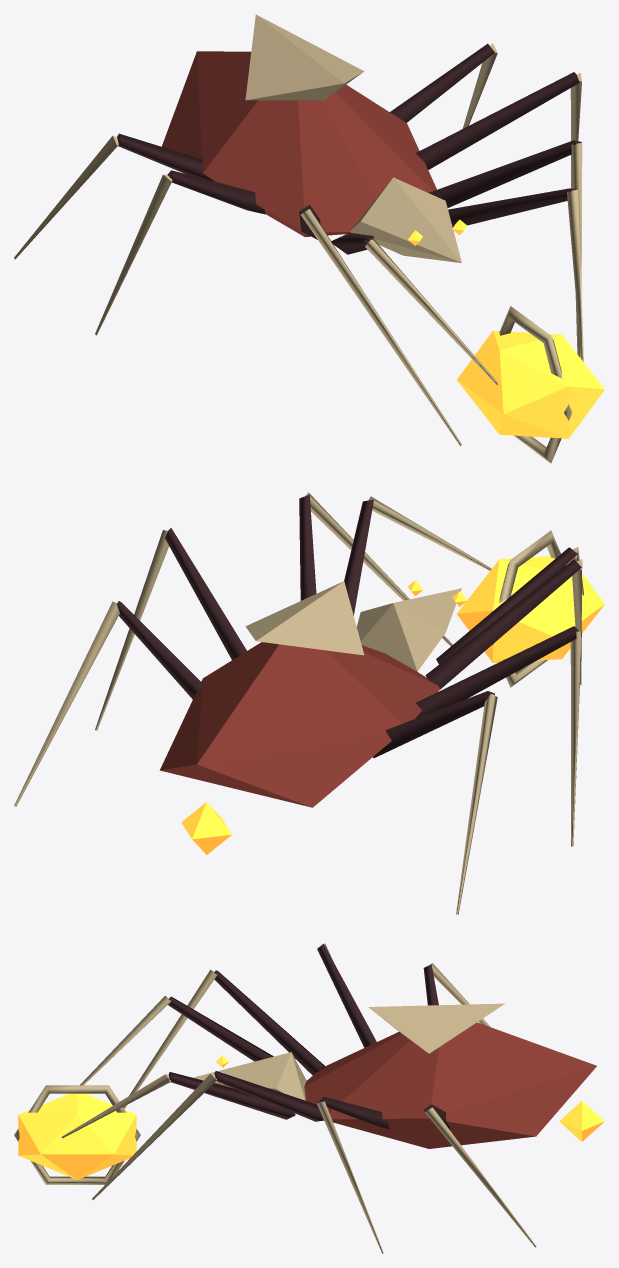
The model's file is Constructor.glb.
3 renders of one model, top to bottom at view 1: azimuth 30°, elevation 25°; view 2: azimuth 150°, elevation 25°; view 3: azimuth 270°, elevation 25°, orthographic. The views are drawn at different scales.
Visible parts, largest first — view 1: abdomen, resin_cocoon, dorsal_plate, head, leg_R2_1, leg_R1_1, leg_L1_2, leg_R0_1, leg_R3_1, cocoon_cage, leg_L2_1, leg_L3_1 (+8 smaller); view 2: abdomen, resin_cocoon, head, dorsal_plate, leg_L1_1, leg_L2_1, leg_R2_1, leg_L3_1, leg_R3_2, leg_L3_2, leg_R3_1, leg_L0_1 (+9 smaller); view 3: abdomen, resin_cocoon, dorsal_plate, head, cocoon_cage, leg_L1_1, leg_R1_1, leg_R0_1, leg_L0_1, leg_L2_1, leg_R1_2, leg_R3_2 (+7 smaller).
Boxes of the visible parts, x1,y1,x2,y2 form: abdomen: (161, 51, 436, 237); resin_cocoon: (457, 330, 604, 438); dorsal_plate: (245, 14, 363, 100); head: (349, 177, 461, 262); leg_R2_1: (416, 72, 579, 169); leg_R1_1: (429, 140, 581, 207); leg_L1_2: (300, 208, 461, 445); leg_R0_1: (448, 188, 577, 227); leg_R3_1: (390, 43, 494, 122); cocoon_cage: (499, 306, 571, 463); leg_L2_1: (167, 170, 265, 214); leg_L3_1: (117, 133, 214, 181); abdomen: (159, 642, 440, 807); resin_cocoon: (457, 556, 604, 662); head: (357, 588, 461, 671); dorsal_plate: (245, 581, 364, 655); leg_L1_1: (425, 559, 581, 689); leg_L2_1: (415, 626, 578, 718); leg_R2_1: (165, 528, 246, 659); leg_L3_1: (373, 691, 494, 758); leg_R3_2: (14, 601, 119, 806); leg_L3_2: (456, 694, 497, 914); leg_R3_1: (116, 601, 202, 699); leg_L0_1: (436, 547, 577, 664); abdomen: (304, 1022, 596, 1148); resin_cocoon: (18, 1093, 136, 1179); dorsal_plate: (368, 1003, 504, 1053); head: (193, 1052, 306, 1100); cocoon_cage: (14, 1085, 140, 1184); leg_L1_1: (214, 970, 324, 1075); leg_R1_1: (214, 1071, 323, 1121); leg_R0_1: (169, 1072, 295, 1119); leg_L0_1: (168, 996, 273, 1061); leg_L2_1: (317, 944, 376, 1047); leg_R1_2: (92, 1073, 216, 1199); leg_R3_2: (425, 1107, 536, 1247).
Size of the model in its own units: 56.23 by 26.19 by 77.3.
